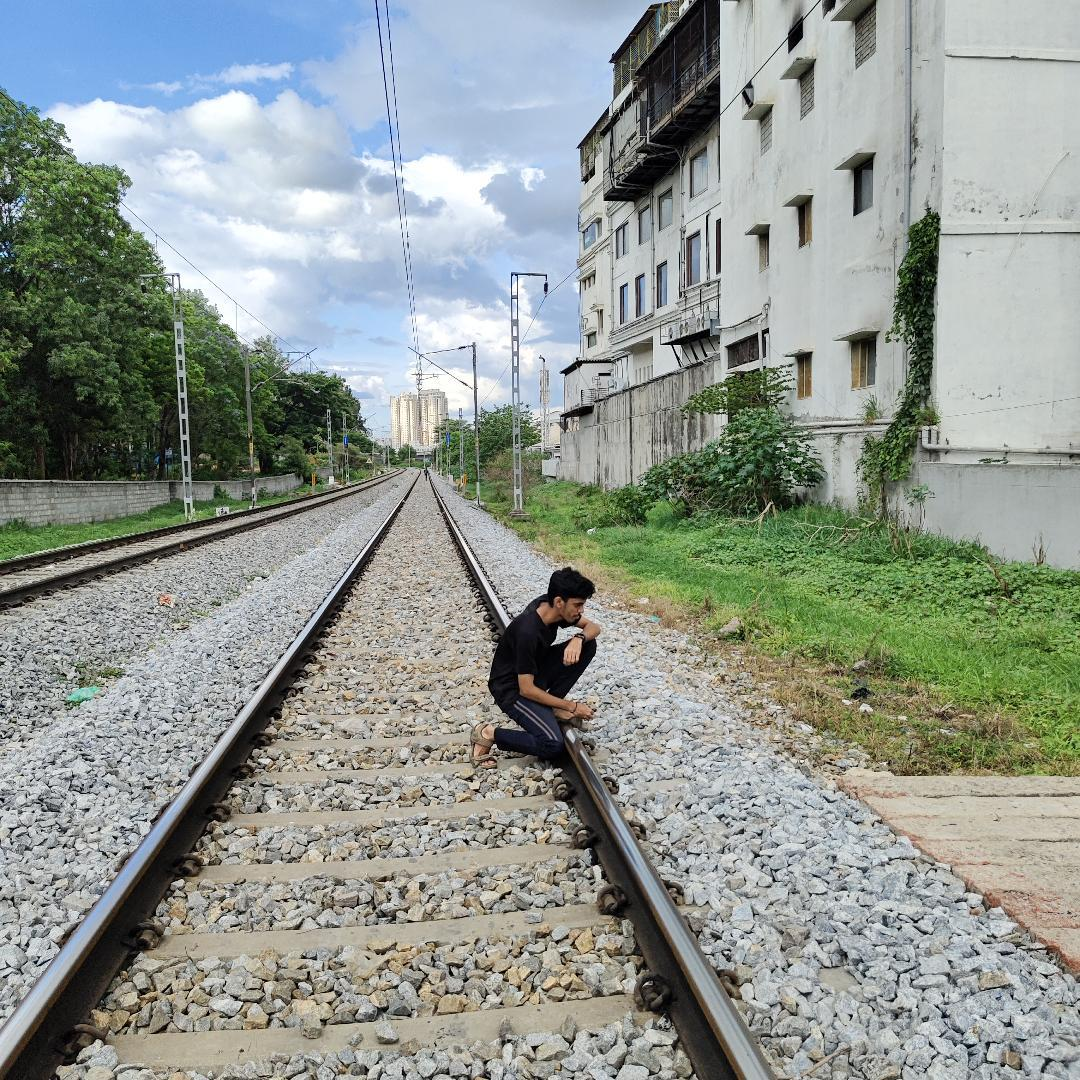sitting: (458, 560, 618, 774)
